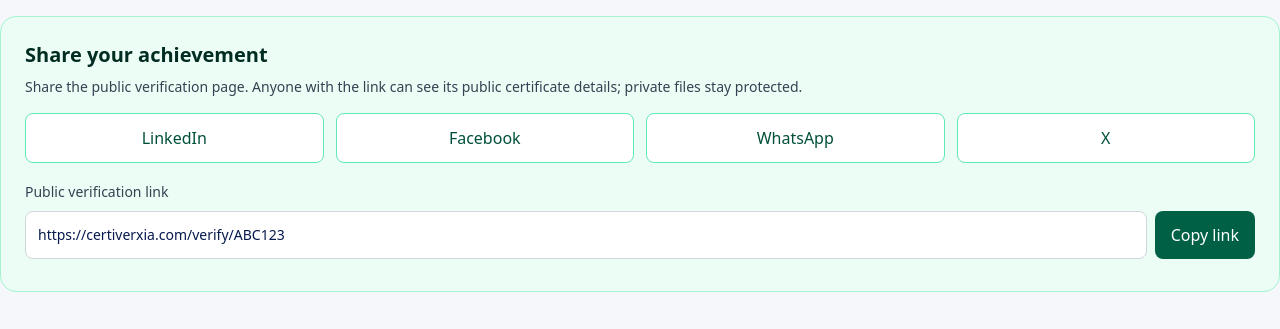
Scenario: Certificate sharing › provides manual copy instructions when clipboard permission is denied
The width and height of the screenshot is (1280, 329).
Click the button "Copy link": (1205, 235) [1155,211,1255,259]
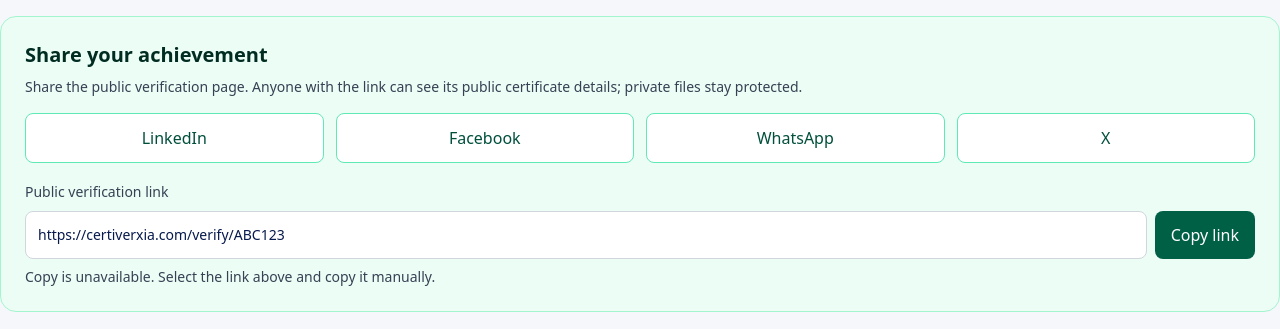
Result: the message shows "copy it manually" at [25,267,435,286]
